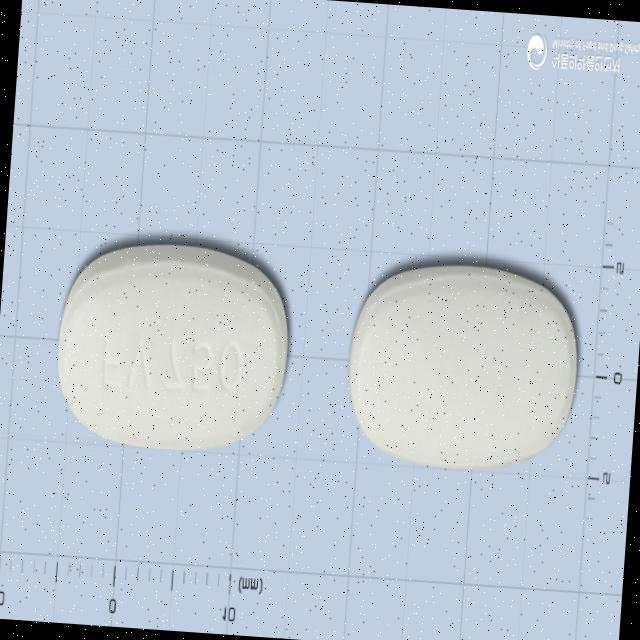Famvir: (51, 235, 294, 458)
